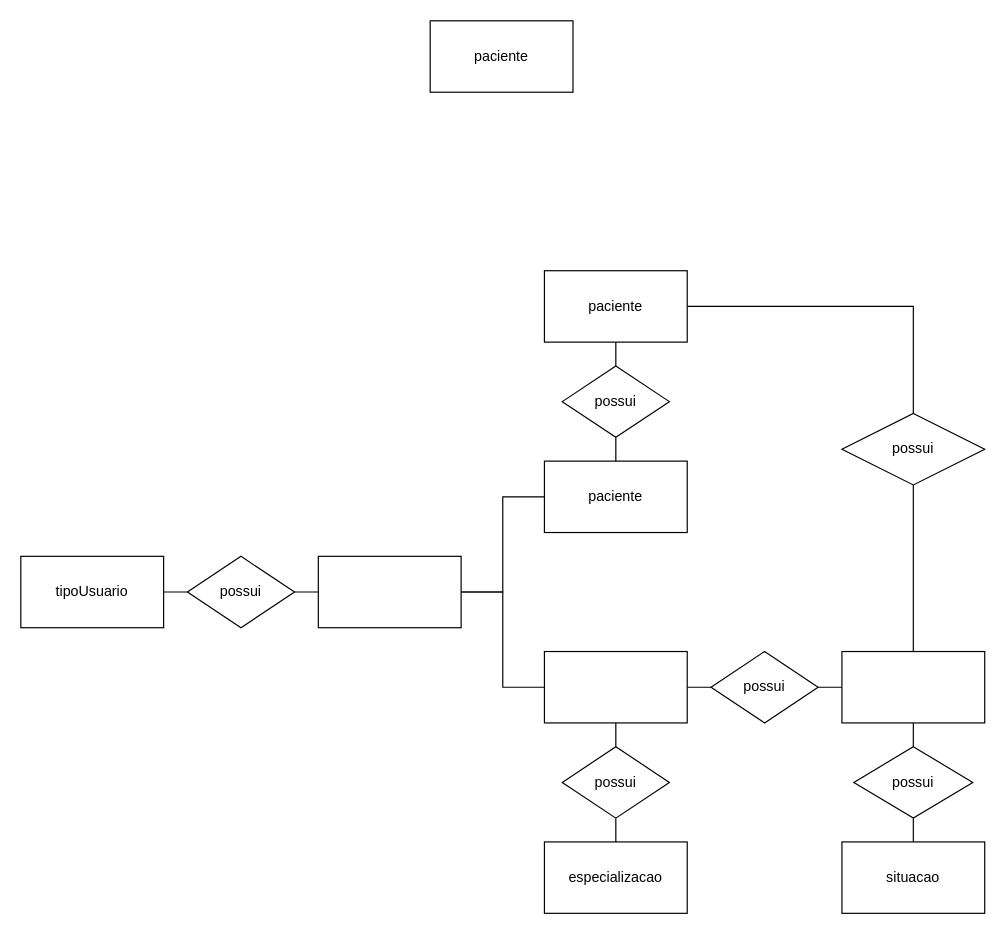
Image size: 1006x934. Some labels were removed from this diagram. The box of each missing label's shape, as (x1, y1, x2, y2) in pixels:
consulta: (841, 650, 985, 723)
medico: (543, 650, 687, 723)
usuario: (317, 555, 461, 628)
